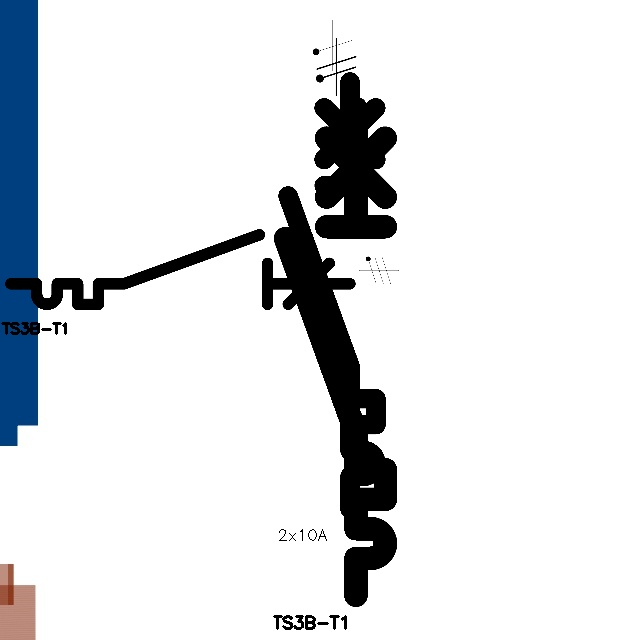interruptor_termomagnetico: (273, 95, 398, 607), (277, 70, 387, 520), (2, 226, 359, 313)
